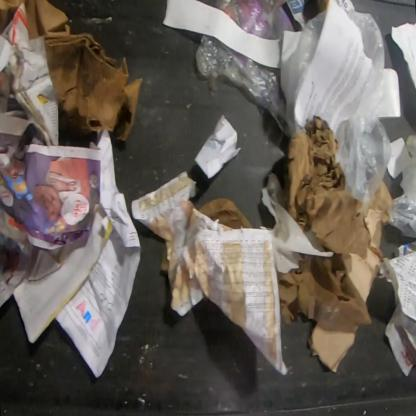cardboard: (26, 1, 143, 142), (286, 115, 364, 254), (343, 179, 395, 302), (310, 320, 357, 372)
soft_plastic: (336, 11, 392, 203), (195, 34, 293, 138), (286, 9, 328, 134), (215, 0, 288, 40)
